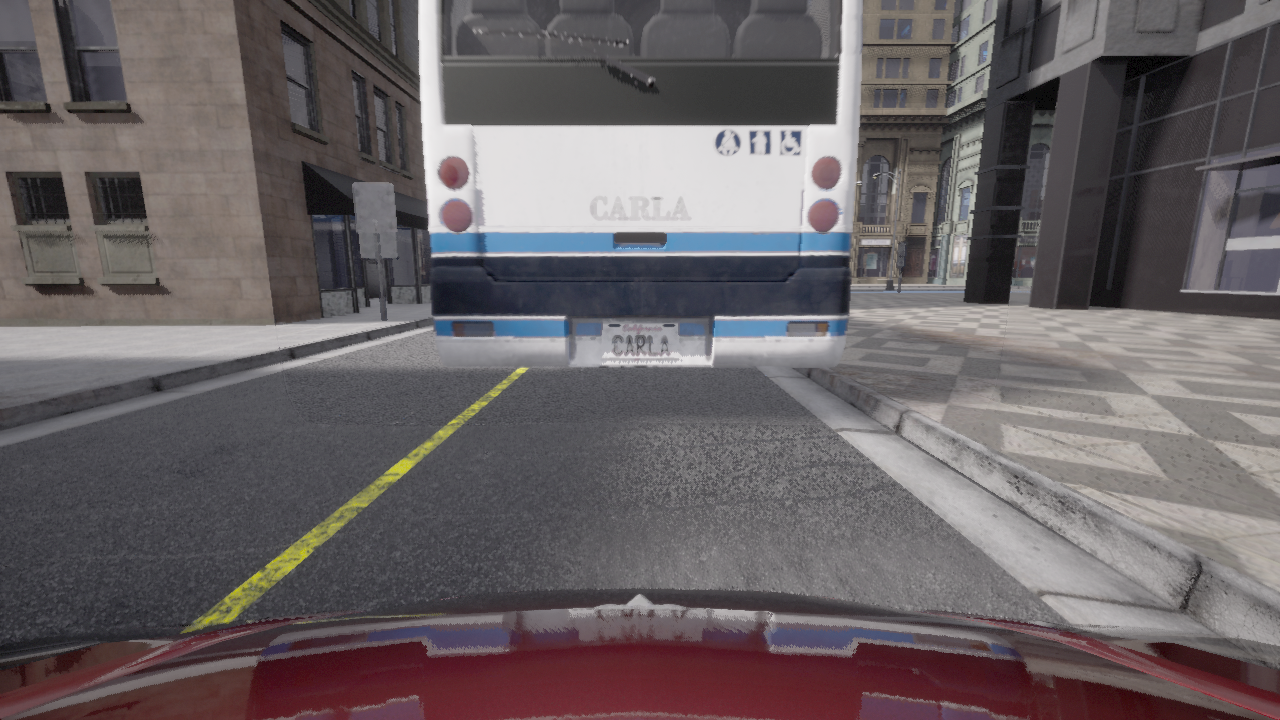cyclist: (0, 588, 1279, 719), (420, 0, 862, 366)
